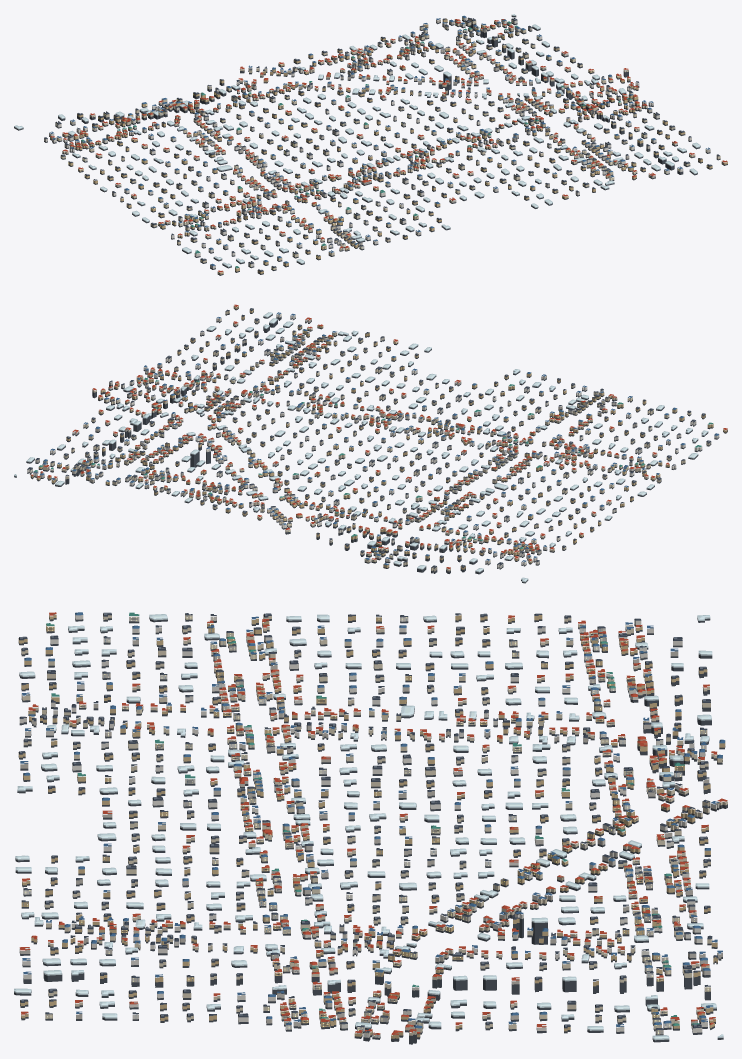
The model's file is osm_buildings_T_W04_N03.glb.
3 renders of one model, top to bottom at view 1: azimuth 30°, elevation 25°; view 2: azimuth 150°, elevation 25°; view 3: azimuth 270°, elevation 25°, orthographic. The views are drawn at different scales.
Visible parts, largest first — view 1: OSM_T_W04_N03_foundation, OSM_T_W04_N03_wall_cream_stucco, OSM_T_W04_N03_greenhouse_blend, OSM_T_W04_N03_wall_french_ochre, OSM_T_W04_N03_roof_mansard_slate, OSM_T_W04_N03_roof_terracotta, OSM_T_W04_N03_wall_warm_white, OSM_T_W04_N03_roof_alpine_blue, OSM_T_W04_N03_wall_pastel_sand, OSM_T_W04_N03_roof_mansard_deck, OSM_T_W04_N03_balcony_railing; view 2: OSM_T_W04_N03_foundation, OSM_T_W04_N03_greenhouse_blend, OSM_T_W04_N03_wall_cream_stucco, OSM_T_W04_N03_wall_french_ochre, OSM_T_W04_N03_roof_terracotta, OSM_T_W04_N03_roof_mansard_slate, OSM_T_W04_N03_wall_warm_white, OSM_T_W04_N03_roof_alpine_blue, OSM_T_W04_N03_wall_pastel_sand, OSM_T_W04_N03_roof_mansard_deck, OSM_T_W04_N03_balcony_railing; view 3: OSM_T_W04_N03_foundation, OSM_T_W04_N03_greenhouse_blend, OSM_T_W04_N03_wall_french_ochre, OSM_T_W04_N03_wall_cream_stucco, OSM_T_W04_N03_roof_terracotta, OSM_T_W04_N03_roof_mansard_slate, OSM_T_W04_N03_wall_warm_white, OSM_T_W04_N03_roof_alpine_blue, OSM_T_W04_N03_wall_pastel_sand, OSM_T_W04_N03_roof_mansard_deck, OSM_T_W04_N03_roof_mint_metal, OSM_T_W04_N03_balcony_railing (+1 smaller).
Part boxes in pixels (left/top/right/bottom): OSM_T_W04_N03_foundation: left=14, top=16, right=727, bottom=275; OSM_T_W04_N03_wall_cream_stucco: left=56, top=19, right=720, bottom=269; OSM_T_W04_N03_greenhouse_blend: left=14, top=14, right=700, bottom=267; OSM_T_W04_N03_wall_french_ochre: left=50, top=18, right=727, bottom=274; OSM_T_W04_N03_roof_mansard_slate: left=44, top=17, right=719, bottom=271; OSM_T_W04_N03_roof_terracotta: left=50, top=19, right=727, bottom=272; OSM_T_W04_N03_wall_warm_white: left=44, top=18, right=691, bottom=268; OSM_T_W04_N03_roof_alpine_blue: left=49, top=15, right=709, bottom=265; OSM_T_W04_N03_wall_pastel_sand: left=64, top=17, right=710, bottom=248; OSM_T_W04_N03_roof_mansard_deck: left=57, top=18, right=711, bottom=270; OSM_T_W04_N03_balcony_railing: left=51, top=20, right=723, bottom=272; OSM_T_W04_N03_foundation: left=14, top=308, right=727, bottom=583; OSM_T_W04_N03_greenhouse_blend: left=14, top=312, right=708, bottom=582; OSM_T_W04_N03_wall_cream_stucco: left=33, top=310, right=711, bottom=571; OSM_T_W04_N03_wall_french_ochre: left=30, top=306, right=727, bottom=569; OSM_T_W04_N03_roof_terracotta: left=31, top=304, right=727, bottom=568; OSM_T_W04_N03_roof_mansard_slate: left=27, top=308, right=711, bottom=568; OSM_T_W04_N03_wall_warm_white: left=27, top=314, right=719, bottom=568; OSM_T_W04_N03_roof_alpine_blue: left=33, top=312, right=718, bottom=565; OSM_T_W04_N03_wall_pastel_sand: left=35, top=318, right=670, bottom=564; OSM_T_W04_N03_roof_mansard_deck: left=29, top=308, right=710, bottom=567; OSM_T_W04_N03_balcony_railing: left=40, top=307, right=727, bottom=569; OSM_T_W04_N03_foundation: left=14, top=617, right=727, bottom=1044; OSM_T_W04_N03_greenhouse_blend: left=14, top=614, right=723, bottom=1040; OSM_T_W04_N03_wall_french_ochre: left=18, top=614, right=725, bottom=1038; OSM_T_W04_N03_wall_cream_stucco: left=21, top=614, right=727, bottom=1035; OSM_T_W04_N03_roof_terracotta: left=19, top=612, right=727, bottom=1034; OSM_T_W04_N03_roof_mansard_slate: left=18, top=613, right=717, bottom=1032; OSM_T_W04_N03_wall_warm_white: left=19, top=614, right=719, bottom=1037; OSM_T_W04_N03_roof_alpine_blue: left=20, top=612, right=725, bottom=1028; OSM_T_W04_N03_wall_pastel_sand: left=19, top=627, right=722, bottom=1034; OSM_T_W04_N03_roof_mansard_deck: left=19, top=612, right=709, bottom=1026; OSM_T_W04_N03_roof_mint_metal: left=46, top=612, right=699, bottom=1025; OSM_T_W04_N03_balcony_railing: left=25, top=614, right=726, bottom=1033.
Size of the model in its own units: 1942 by 73.93 by 1419.
